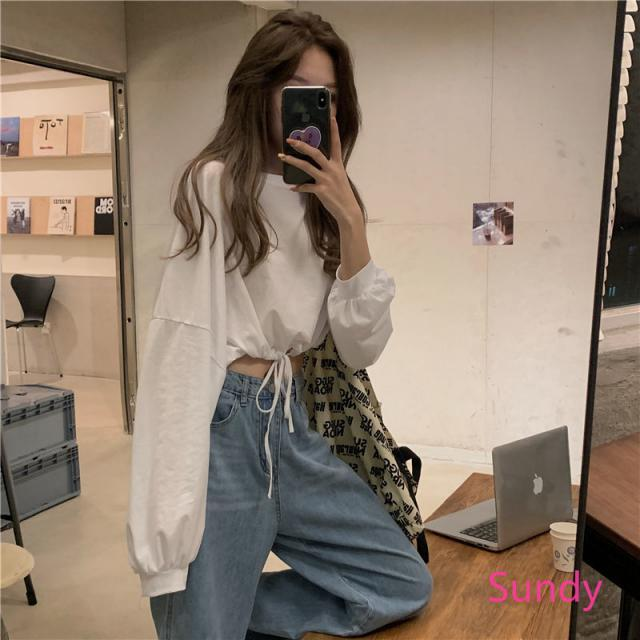Shirt: (126, 135, 386, 595)
